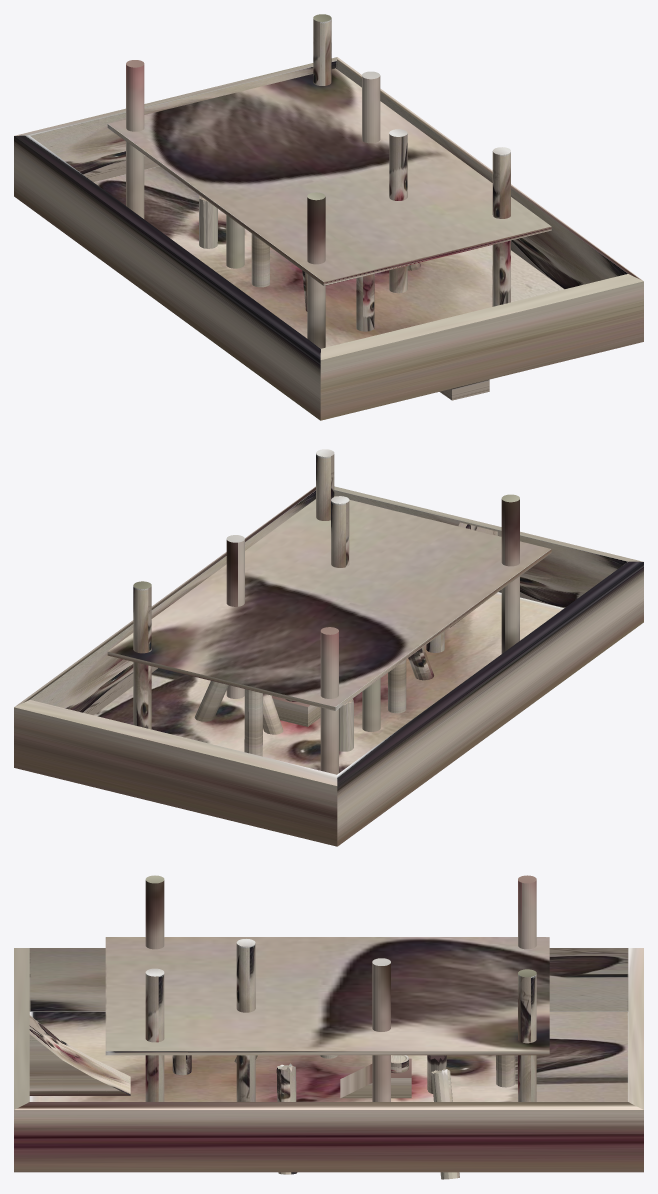
The model's file is temple.glb.
3 views of the same model, one above another, from view 1: azimuth 30°, elevation 25°; view 2: azimuth 150°, elevation 25°; view 3: azimuth 270°, elevation 25° (orthographic). The views are drawn at different scales.
Visible parts, largest first — view 1: Temple; view 2: Temple; view 3: Temple.
Boxes of the visible parts, x1,y1,x2,y2 form: Temple: (14,14,643,420); Temple: (14,449,643,846); Temple: (14,875,643,1179).
Size of the model in its own units: 40.69 by 24.66 by 66.79.
Materials: 1 (1 with a texture image).
